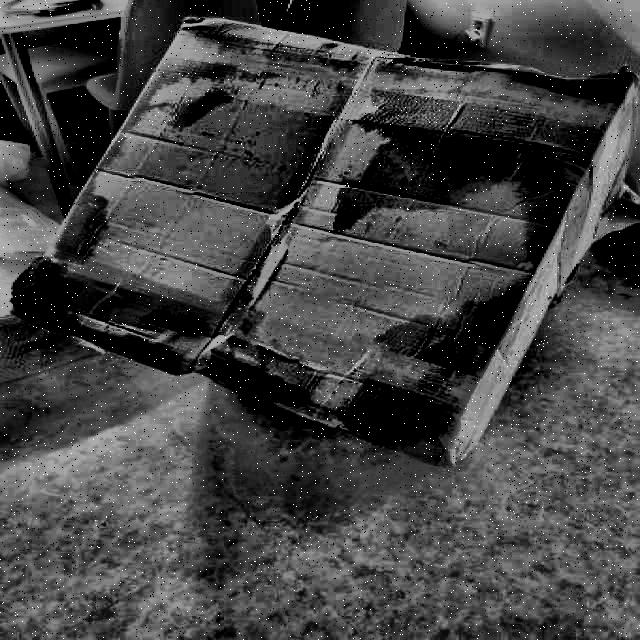box: (4, 10, 639, 481)
wet: (349, 51, 623, 271), (360, 316, 526, 488), (18, 203, 118, 341)
